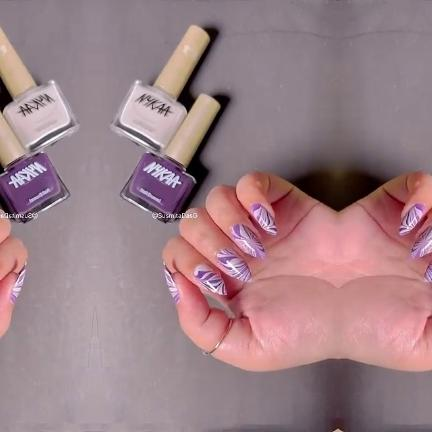Nail: (229, 223, 265, 259), (215, 248, 253, 282), (193, 264, 226, 295), (249, 203, 276, 236), (398, 203, 425, 236), (409, 224, 432, 259), (162, 262, 179, 302), (9, 262, 26, 302), (421, 259, 432, 282)
